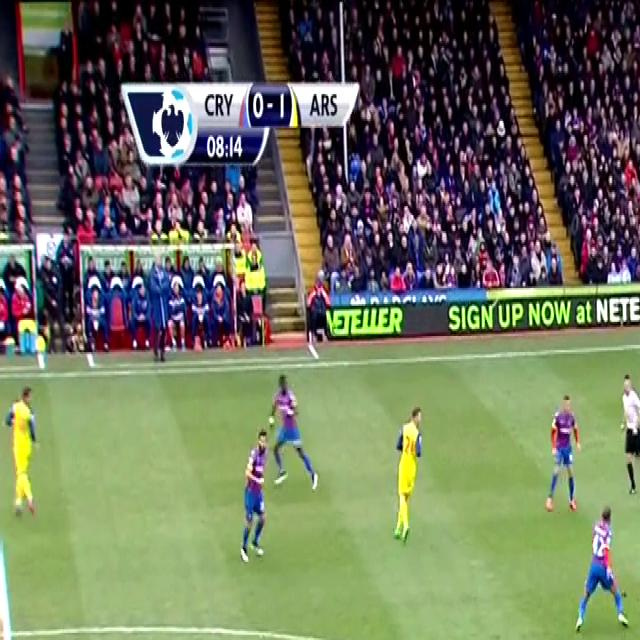referee: (609, 374, 640, 502)
soccer-player: (565, 506, 639, 640), (381, 397, 443, 547), (260, 369, 324, 496), (232, 425, 288, 568), (0, 381, 50, 524), (536, 390, 591, 518)
